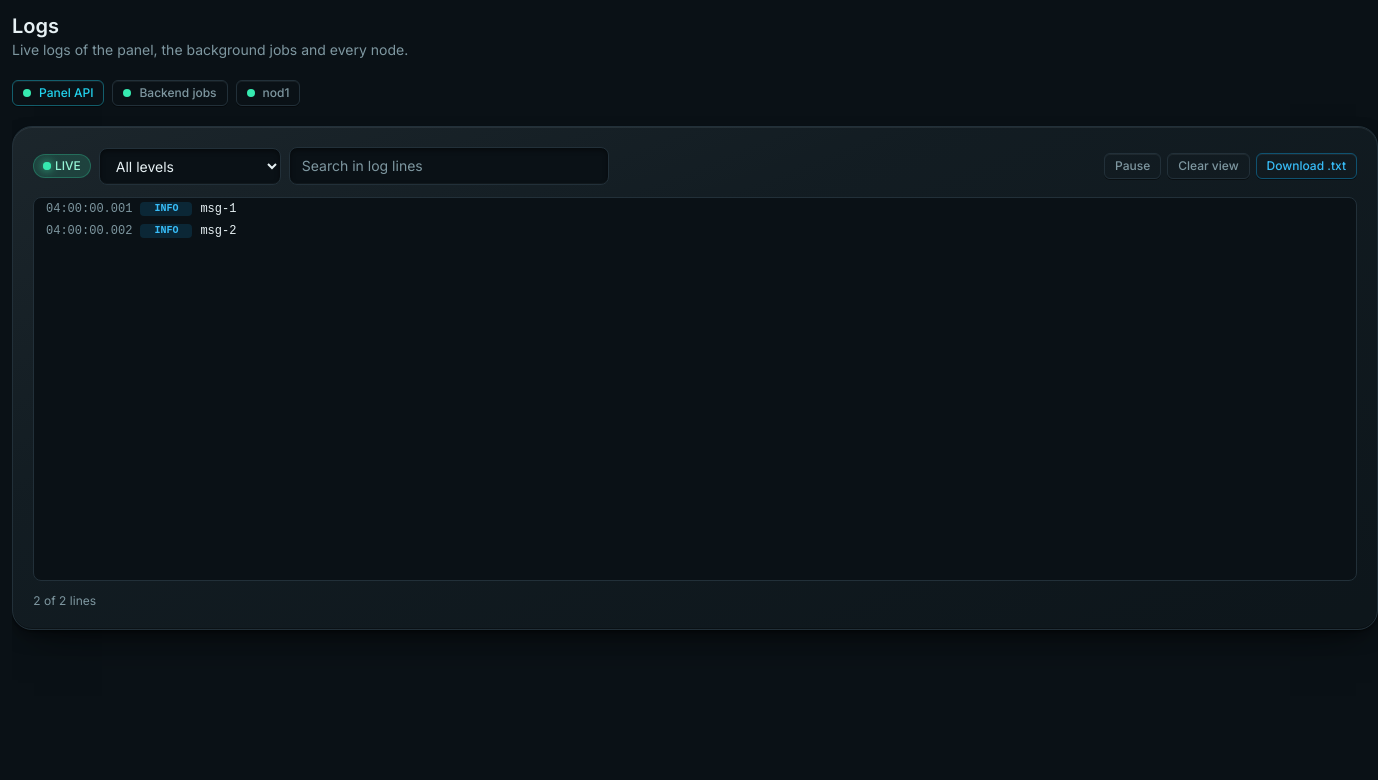
Test: Logs toolbar › clears the view but does not bring the cleared lines back on the next poll
The image size is (1378, 780).
Click the button "Clear view": [1208, 166] box [1167,153,1250,179]
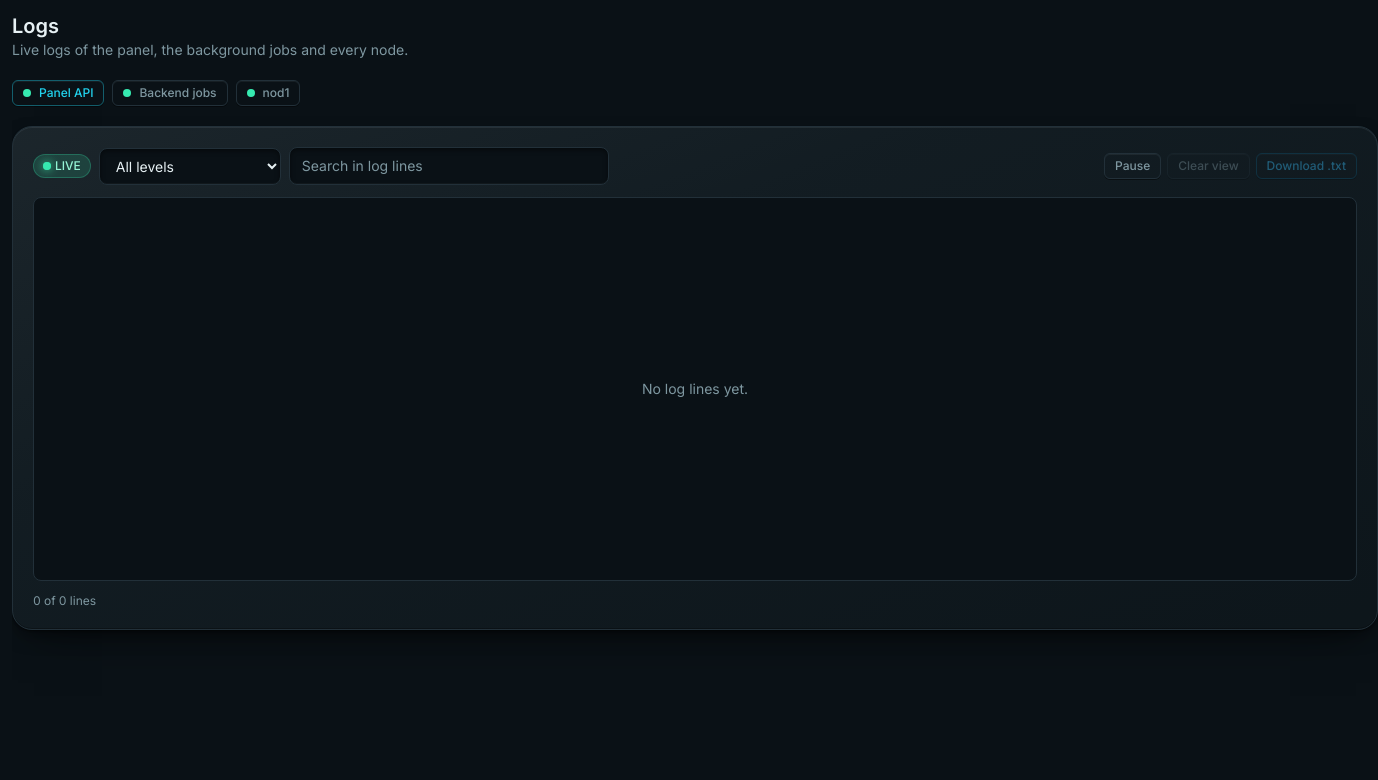
Expected: the text "No log lines yet." is shown, [642,380,748,397]
